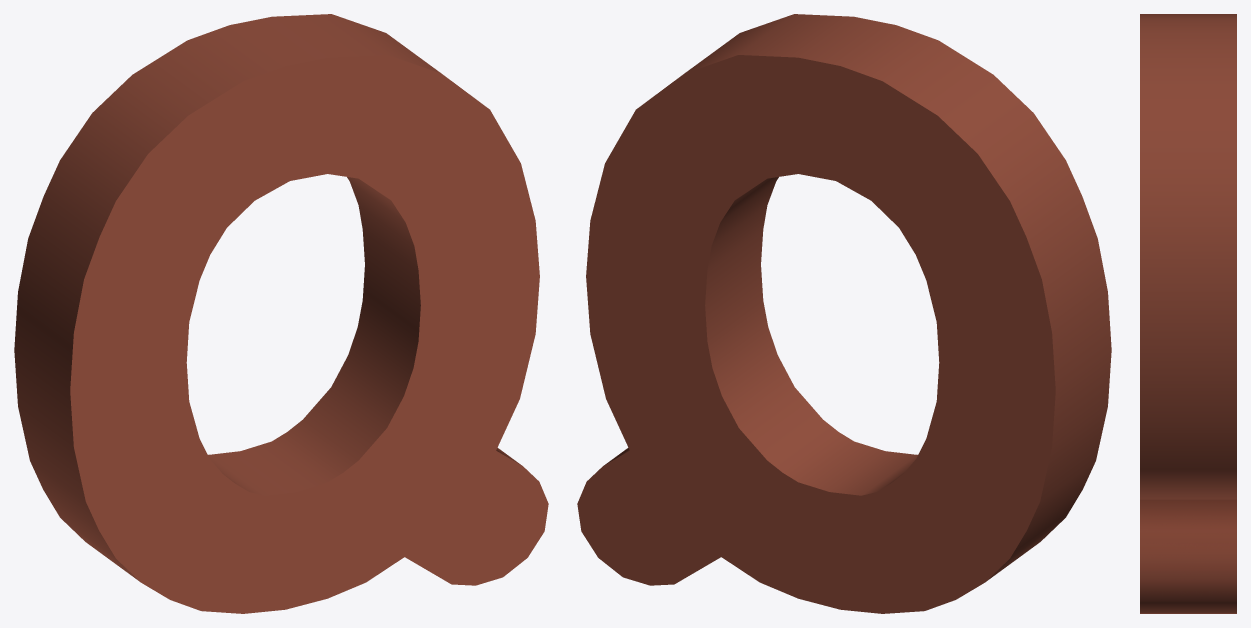
3 views of the same model, side by side, from view 1: azimuth 30°, elevation 25°; view 2: azimuth 150°, elevation 25°; view 3: azimuth 270°, elevation 25° (orthographic). The views are drawn at different scales.
Parts seen in each view (by area): view 1: Text_Q; view 2: Text_Q; view 3: Text_Q.
Boxes of the visible parts, bbox=[...] form: Text_Q: bbox=[14, 14, 548, 613]; Text_Q: bbox=[577, 14, 1111, 613]; Text_Q: bbox=[1140, 14, 1236, 613].
Bounding box in the file's own units: 33.47 × 37.84 × 6.77.
